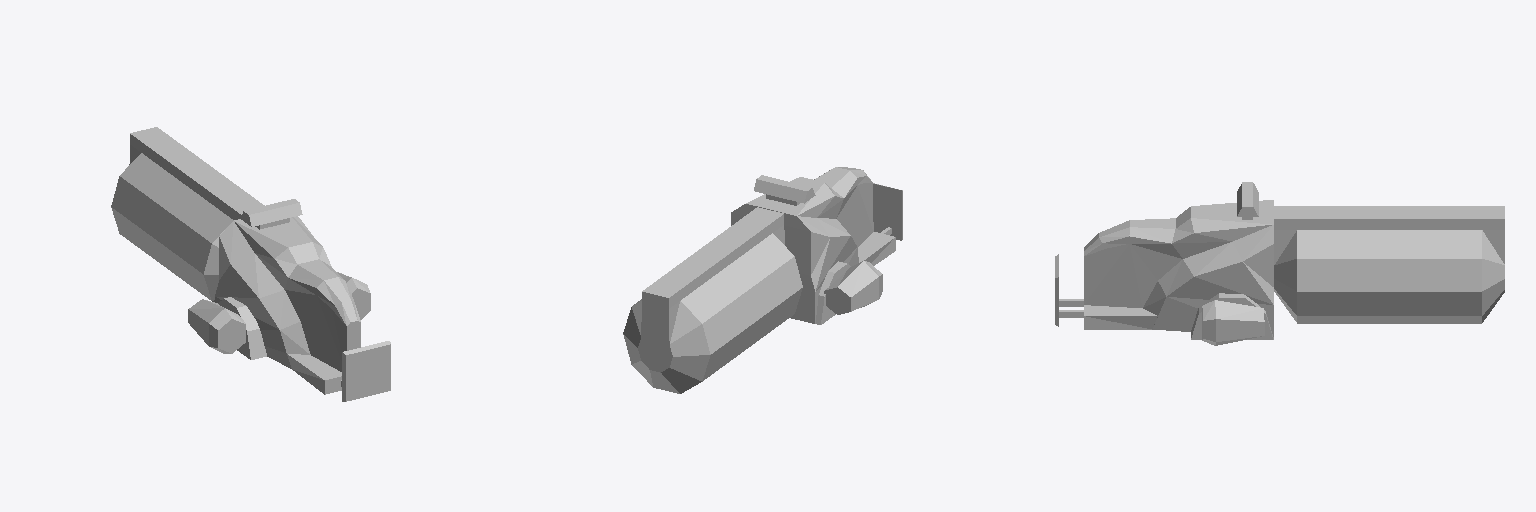
The model's file is utl19_static.obj.
The picture shows the model from 3 angles: view 1: azimuth 30°, elevation 25°; view 2: azimuth 150°, elevation 25°; view 3: azimuth 270°, elevation 25°; orthographic projection.
Parts seen in each view (by area): view 1: frm-fuselg_1, frm-fuselg, frm-tractr2, frm-rthrust2, frm-rthrust1, frm-lthrust2; view 2: frm-fuselg, frm-fuselg_1, frm-rthrust2, frm-tractr2, frm-rthrust1; view 3: frm-fuselg, frm-fuselg_1, frm-lthrust2, frm-lthrust1.
Boxes of the visible parts, x1,y1,x2,y2 form: frm-fuselg_1: [215, 216, 360, 394]; frm-fuselg: [111, 127, 264, 301]; frm-tractr2: [342, 341, 390, 401]; frm-rthrust2: [188, 299, 245, 353]; frm-rthrust1: [218, 297, 266, 359]; frm-lthrust2: [337, 272, 370, 319]; frm-fuselg: [623, 207, 802, 393]; frm-fuselg_1: [731, 167, 895, 323]; frm-rthrust2: [824, 261, 882, 314]; frm-tractr2: [873, 183, 902, 240]; frm-rthrust1: [816, 261, 850, 324]; frm-fuselg: [1274, 206, 1504, 323]; frm-fuselg_1: [1084, 200, 1273, 336]; frm-lthrust2: [1202, 300, 1264, 345]; frm-lthrust1: [1191, 293, 1273, 339].
Size of the model in its own units: 1.91 by 1.41 by 4.71.